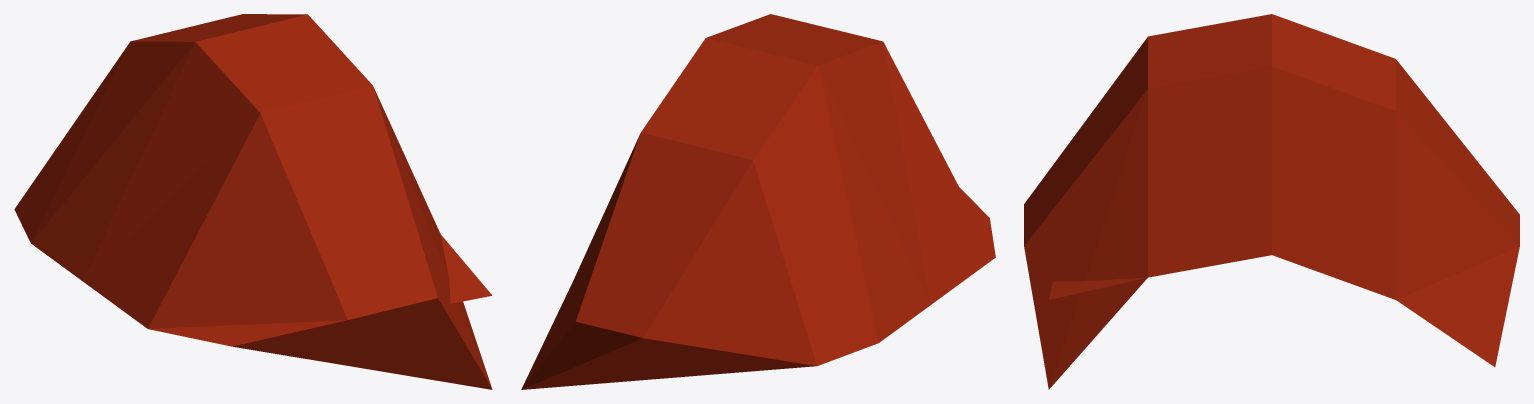
File: inv_lump_of_crystal.obj
3 views of the same model, side by side, from view 1: azimuth 30°, elevation 25°; view 2: azimuth 150°, elevation 25°; view 3: azimuth 270°, elevation 25° (orthographic). The views are drawn at different scales.
Size of the model in its own units: 0.1016 by 0.1016 by 0.1562.
